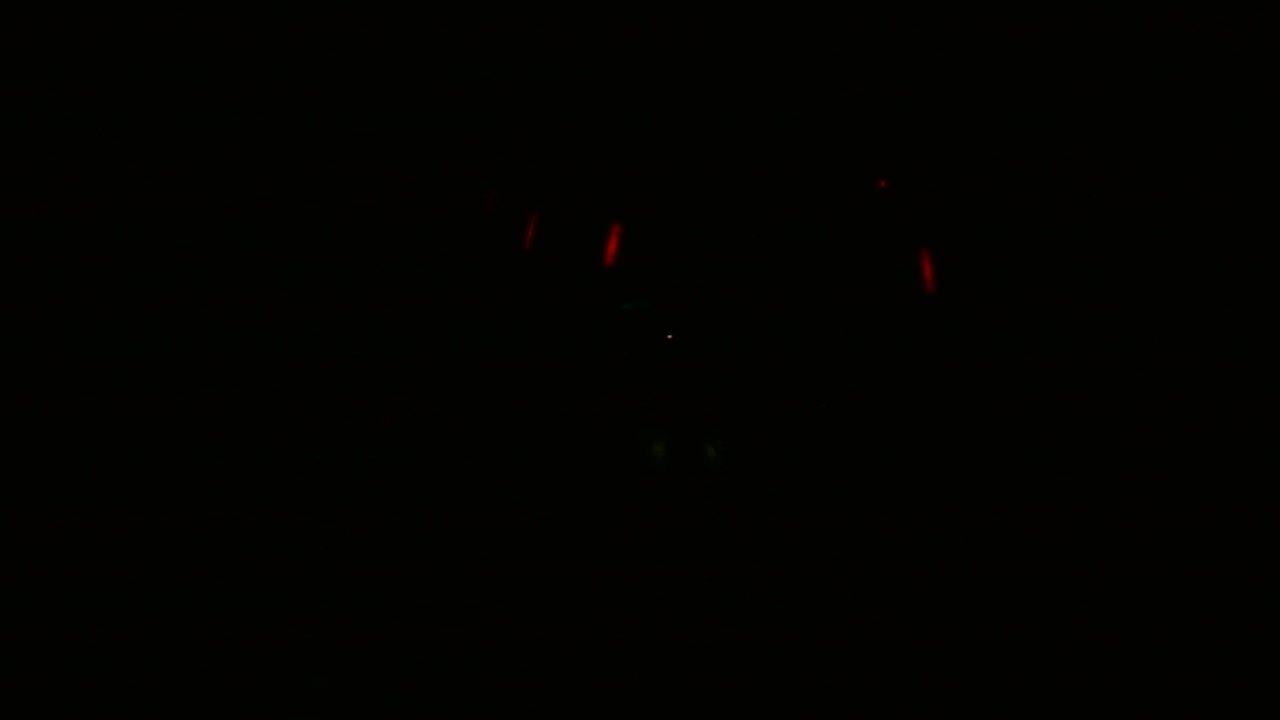pair1: (517, 218, 630, 269)
